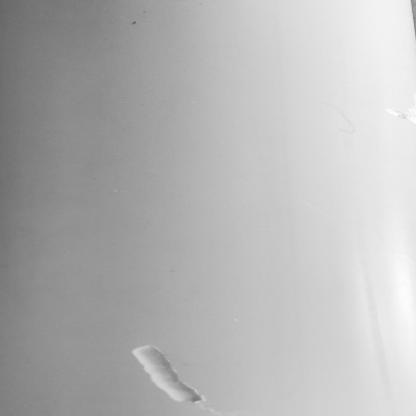sunshang: (128, 345, 206, 405), (386, 88, 416, 125)
